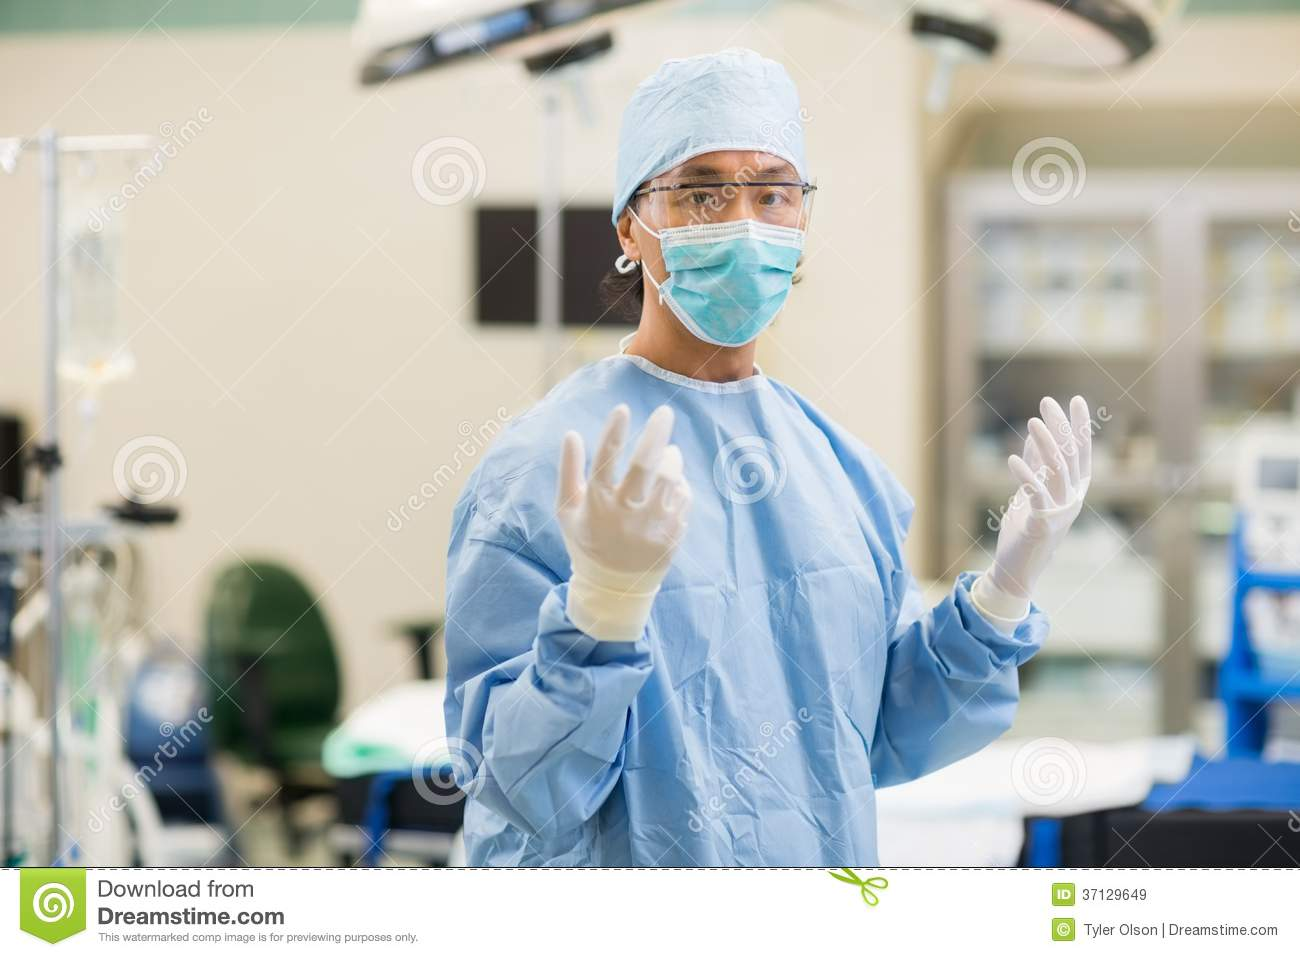mask: (653, 219, 813, 339)
